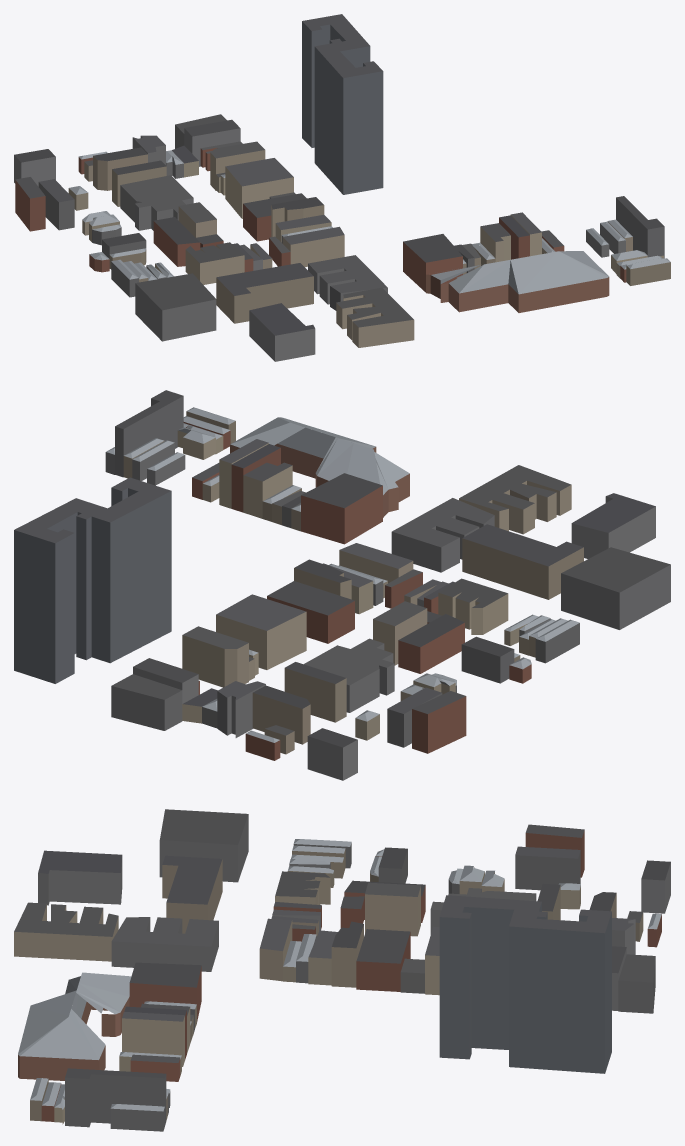
The model's file is 3_5.far.glb.
3 renders of one model, top to bottom at view 1: azimuth 30°, elevation 25°; view 2: azimuth 150°, elevation 25°; view 3: azimuth 270°, elevation 25°, orthographic. The views are drawn at different scales.
Parts seen in each view (by area): view 1: 3_5_far; view 2: 3_5_far; view 3: 3_5_far.
Boxes of the visible parts, bbox=[...] form: 3_5_far: bbox=[14, 14, 670, 361]; 3_5_far: bbox=[14, 390, 670, 780]; 3_5_far: bbox=[14, 809, 670, 1131].
Bounding box in the file's own units: 267 × 63.5 × 269.
